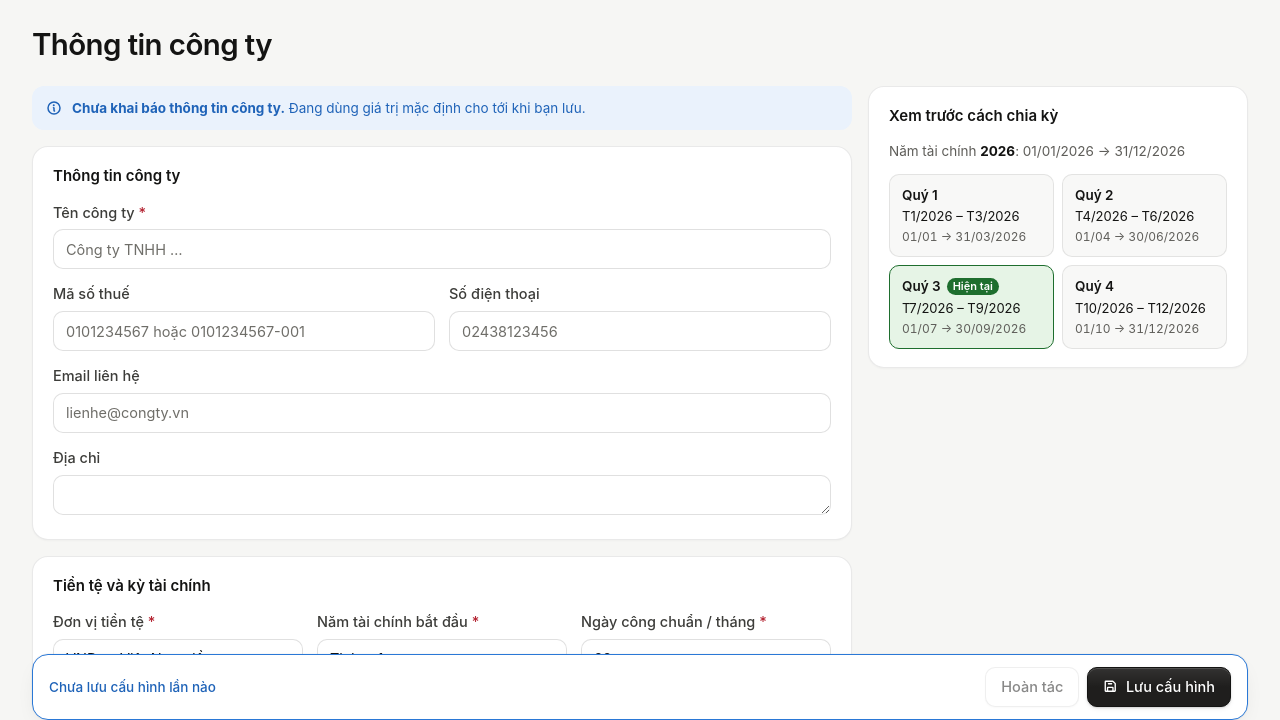
Test: CompanySettingPage (NCL-15-CN-002) › TC-02: máy chủ trả 400 với fieldErrors companyName → hiện lỗi dưới ô tên
Type "X" into the field with test id "company-input-name" at [442, 249], box [53,229,831,269]
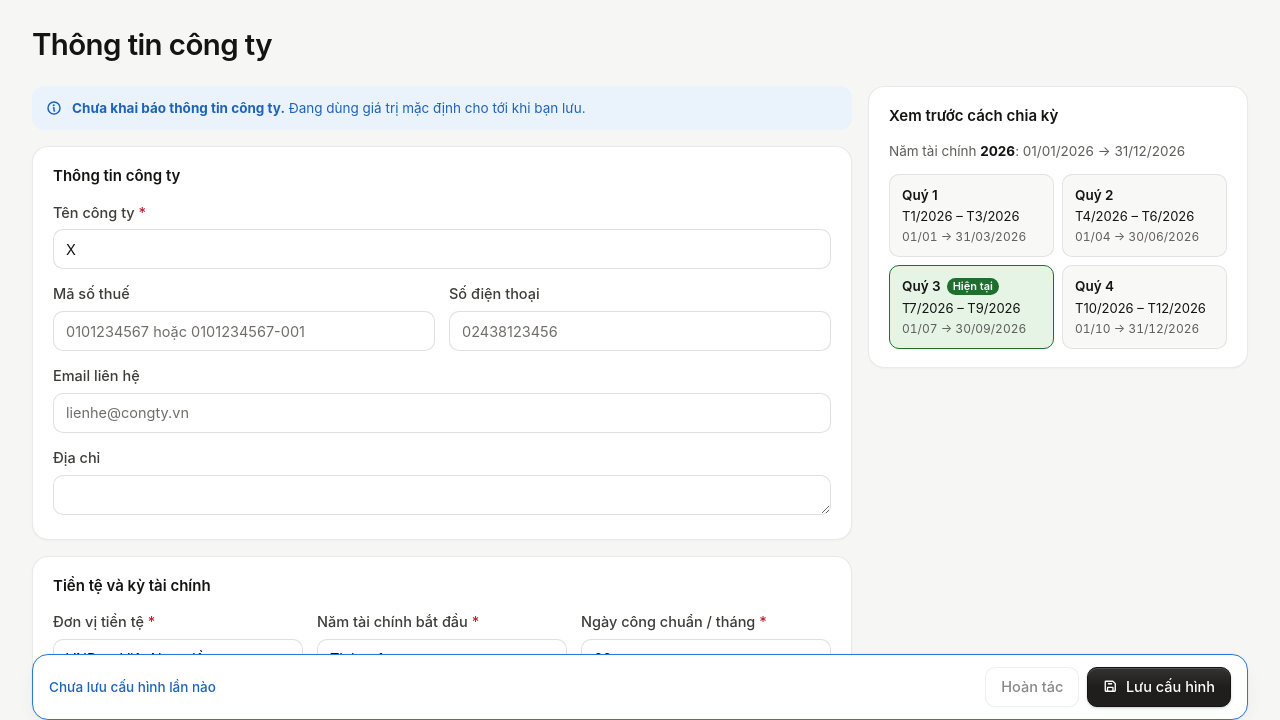
Click the button with test id "company-save" at [1159, 687], box [1087,667,1231,707]
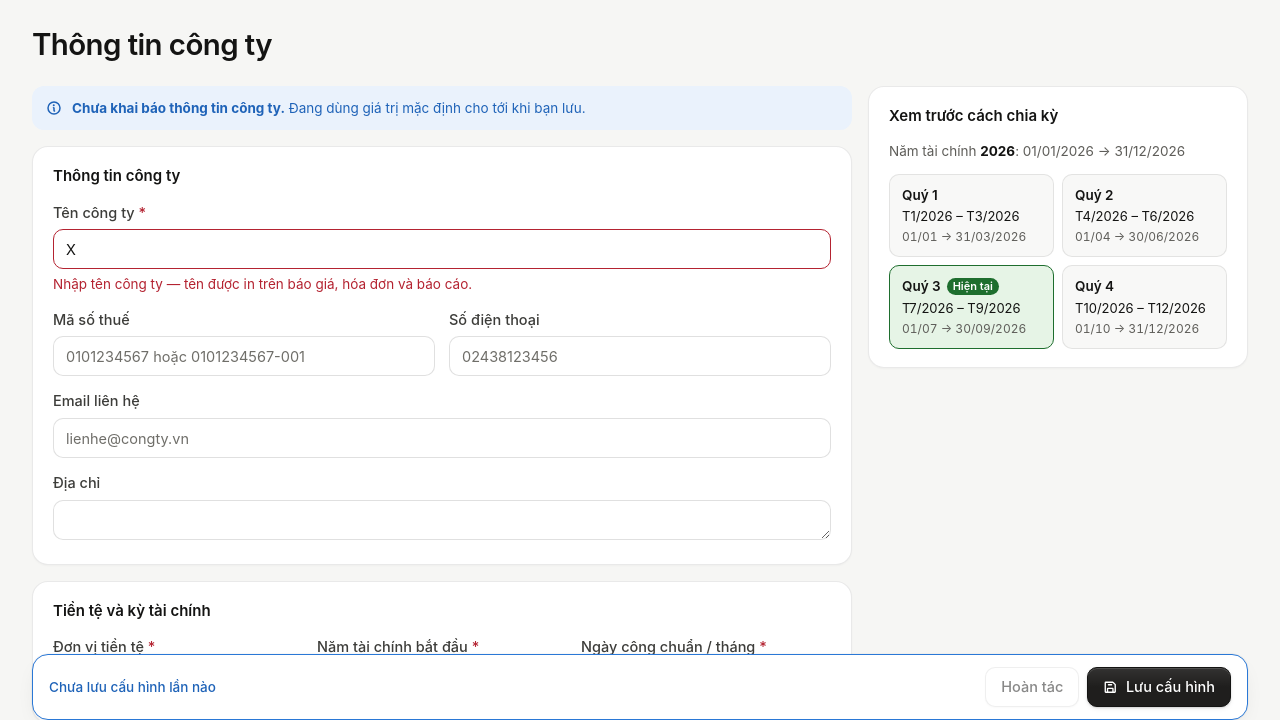
Result: the message with test id "company-error-companyName" shows "Nhập tên công ty" at [53,276,472,292]
